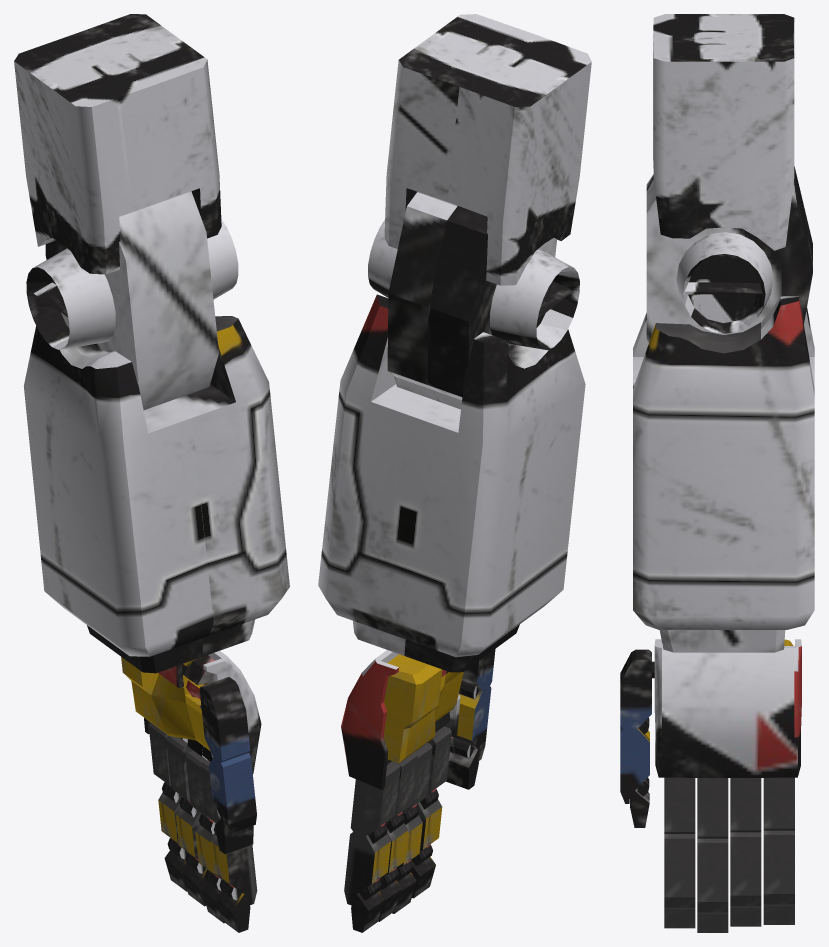
File: upper.obj
3 views of the same model, side by side, from view 1: azimuth 30°, elevation 25°; view 2: azimuth 150°, elevation 25°; view 3: azimuth 270°, elevation 25° (orthographic). The views are drawn at different scales.
Parts seen in each view (by area): view 1: hand2:polySurface666; view 2: hand2:polySurface666; view 3: hand2:polySurface666.
Boxes of the visible parts, left/top/right/bottom form: hand2:polySurface666: left=14, top=14, right=289, bottom=932; hand2:polySurface666: left=318, top=14, right=591, bottom=932; hand2:polySurface666: left=620, top=14, right=814, bottom=932.
Size of the model in its own units: 2.33 by 9.49 by 1.96.
Materials: 1 (1 with a texture image).
